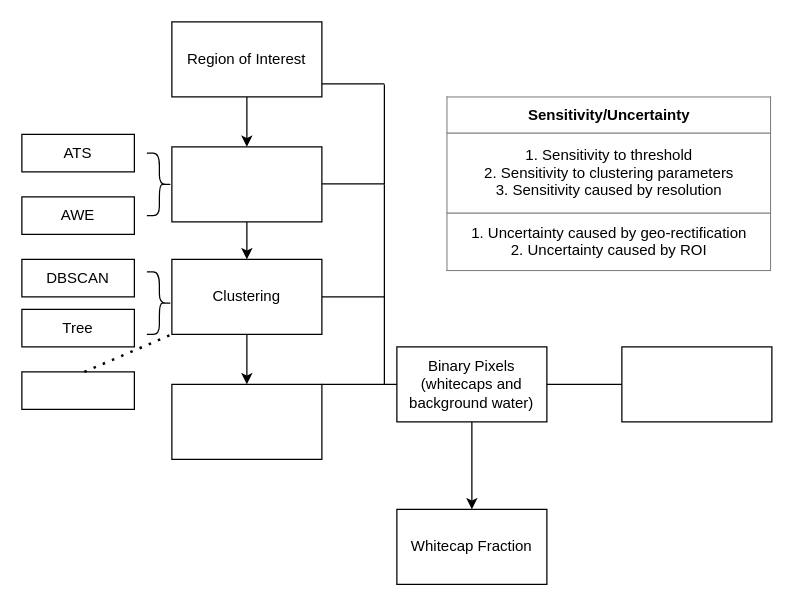
The diagram is 794 pixels wide and 606 high, and some of its shapes have lost their labels. Each missing label, with the box of its shape:
Geo-rectification: (171, 383, 322, 459)
image pyramid: (21, 371, 134, 409)
Semantic segmentation: (621, 346, 772, 422)
Thresholding: (171, 146, 322, 222)
